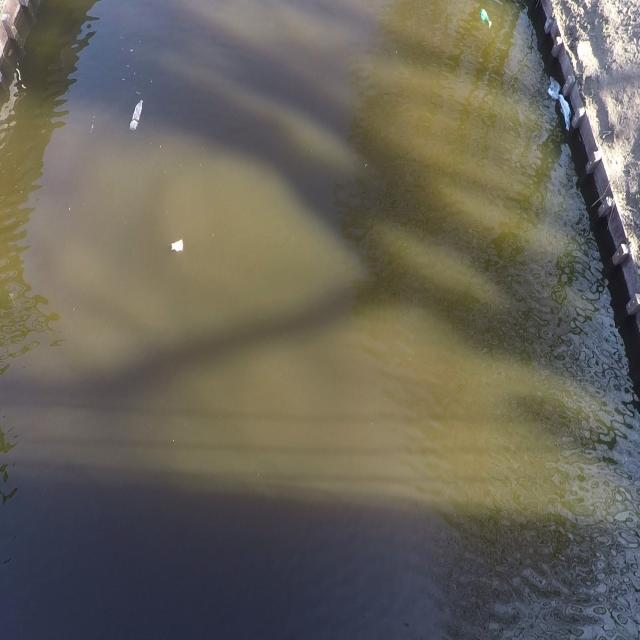Bouteille plastique: (128, 99, 144, 134), (476, 8, 492, 29)
